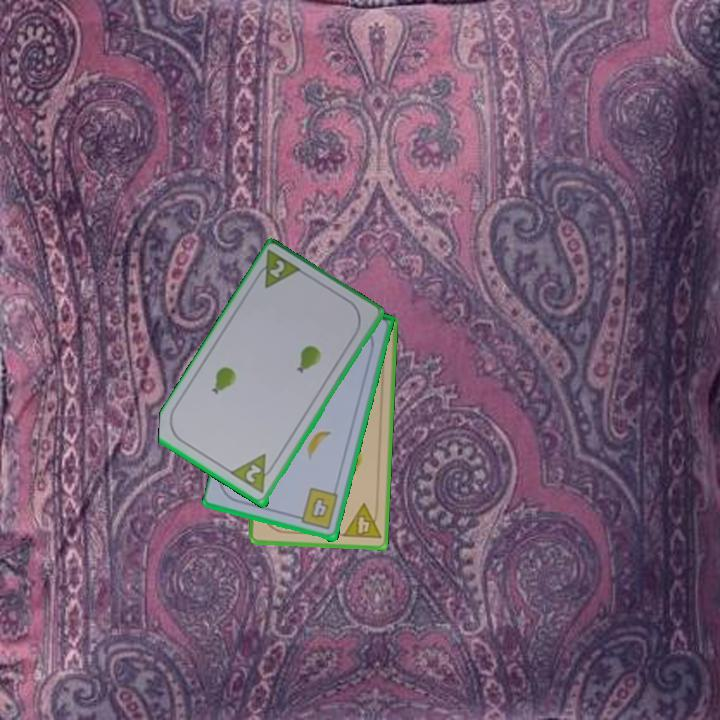2p: (242, 461, 264, 486), (266, 257, 288, 281)
4b: (292, 485, 341, 533)
4p: (339, 500, 384, 542)
